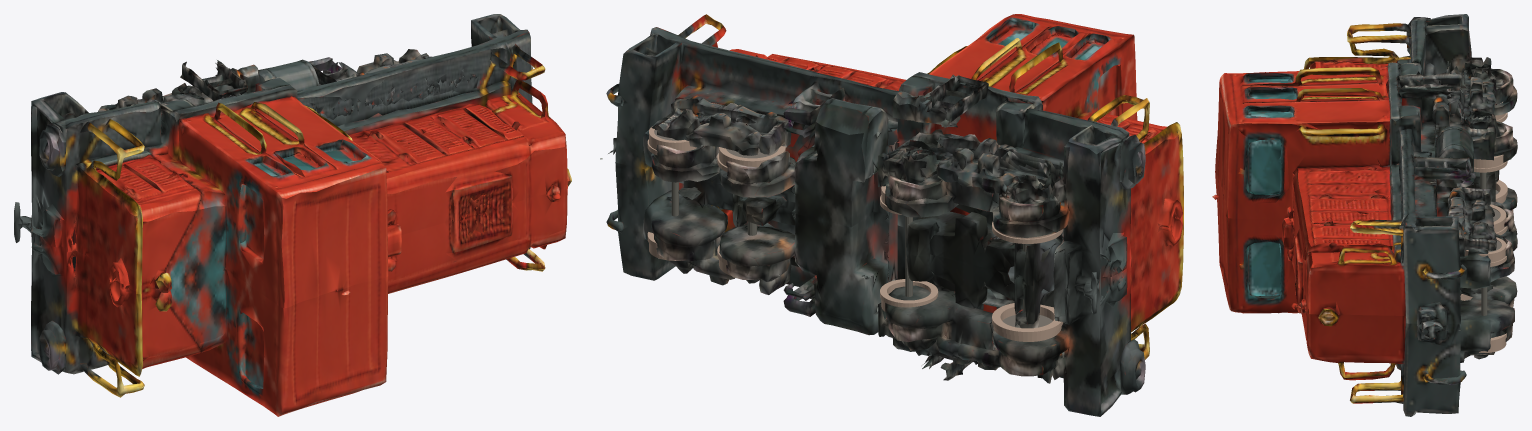
The model's file is mk48_body.glb.
3 views of the same model, side by side, from view 1: azimuth 30°, elevation 25°; view 2: azimuth 150°, elevation 25°; view 3: azimuth 270°, elevation 25° (orthographic). The views are drawn at different scales.
Visible parts, largest first — view 1: part_body; view 2: part_body, wheels_body; view 3: part_body, wheels_body.
Boxes of the visible parts, x1,y1,x2,y2 form: part_body: (14, 14, 571, 416); part_body: (600, 14, 1183, 416); wheels_body: (647, 126, 1063, 341); part_body: (1212, 14, 1517, 416); wheels_body: (1452, 102, 1507, 352).
Bounding box in the file's own units: 5.82 × 2.98 × 3.54.
4 materials, 1 textured.
